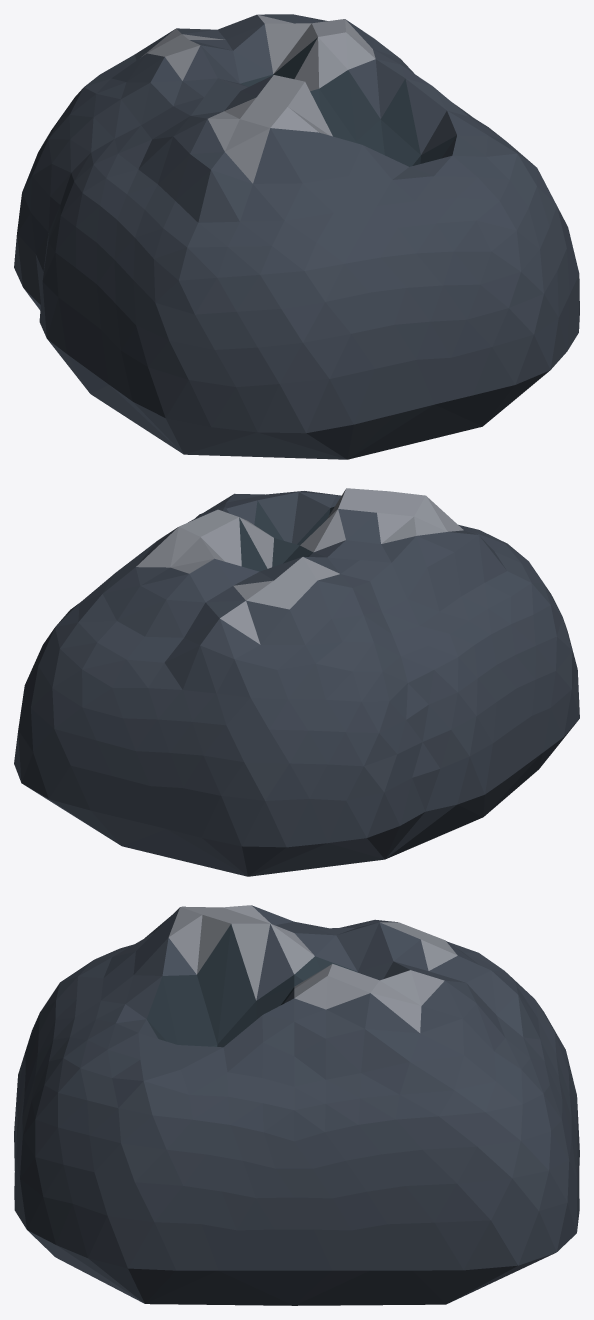
Rendered from newshd-152.glb.
3 views of the same model, one above another, from view 1: azimuth 30°, elevation 25°; view 2: azimuth 150°, elevation 25°; view 3: azimuth 270°, elevation 25° (orthographic). The views are drawn at different scales.
Parts seen in each view (by area): view 1: newshd-152; view 2: newshd-152; view 3: newshd-152.
Boxes of the visible parts, bbox=[...] form: newshd-152: bbox=[14, 14, 579, 459]; newshd-152: bbox=[14, 488, 579, 876]; newshd-152: bbox=[14, 905, 579, 1305].
Bounding box in the file's own units: 1.03 × 0.7537 × 1.2.
